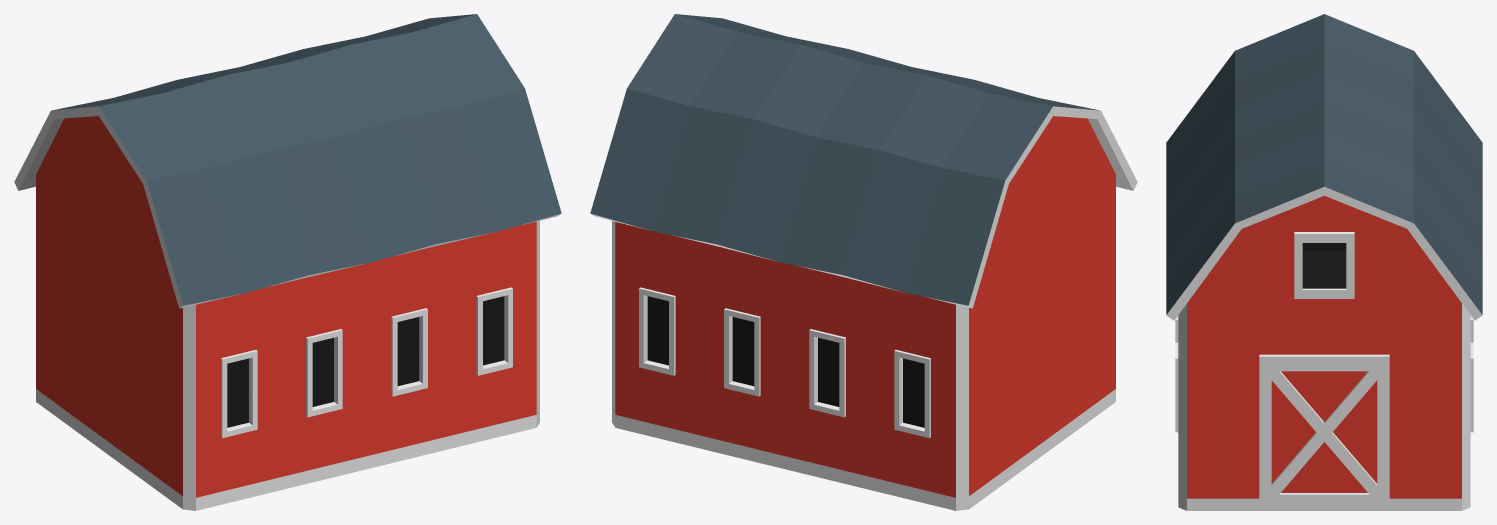
File: barn.glb
The picture shows the model from 3 angles, left to right: view 1: azimuth 30°, elevation 25°; view 2: azimuth 150°, elevation 25°; view 3: azimuth 270°, elevation 25°; orthographic projection. The views are drawn at different scales.
Parts seen in each view (by area): view 1: Barn_Cube.029; view 2: Barn_Cube.029; view 3: Barn_Cube.029.
Part boxes in pixels (left/top/right/bottom): Barn_Cube.029: left=14, top=14, right=561, bottom=510; Barn_Cube.029: left=590, top=14, right=1137, bottom=510; Barn_Cube.029: left=1166, top=14, right=1482, bottom=510.
Bounding box in the file's own units: 11.2 × 9.95 × 8.67.
